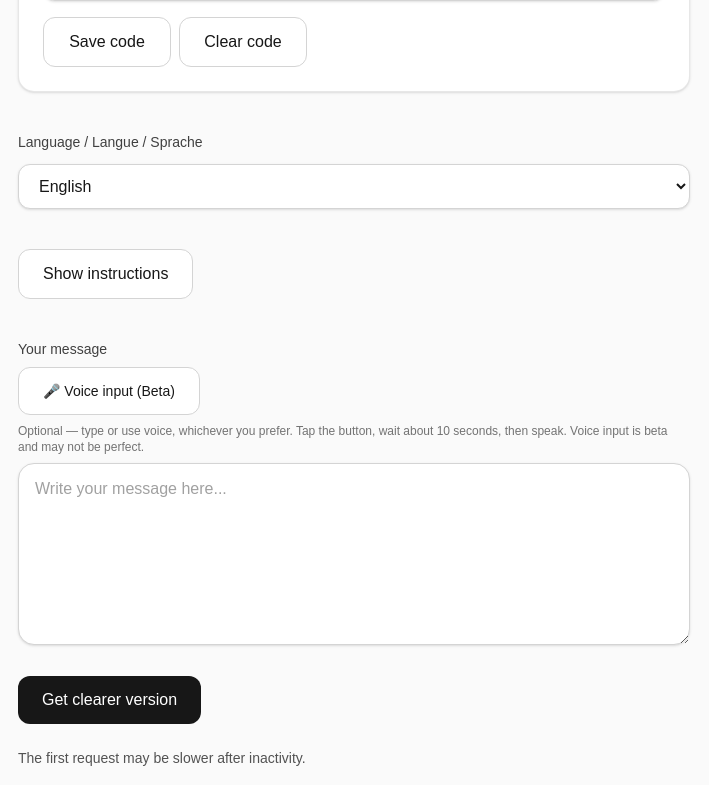
Home page › API response is displayed
The width and height of the screenshot is (709, 785).
(page scrolled)
Type "original" into the text box labelled "Your message" at (354, 554), box [18, 463, 690, 645]
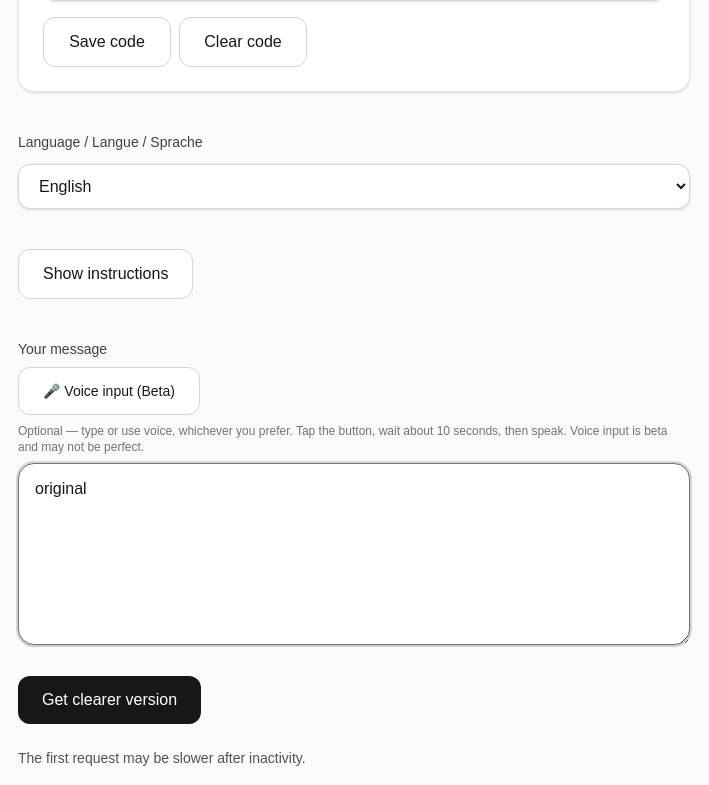
Click the button "Get clearer version" at (110, 700), box [18, 676, 201, 724]
(page scrolled)
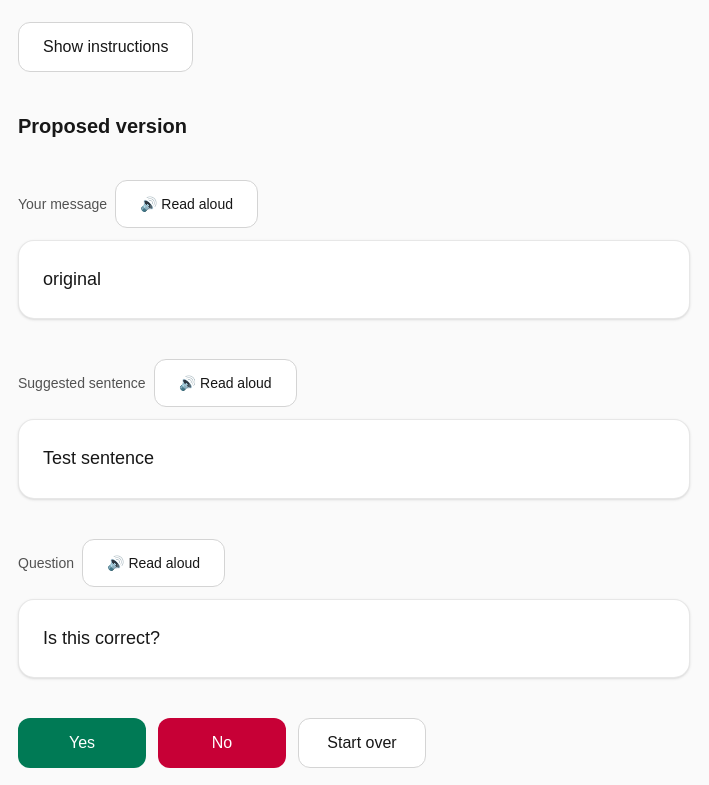
Result: the text "Test sentence" is shown at [43, 448, 154, 468]
Result: the text "Is this correct?" is shown at [43, 628, 160, 648]
